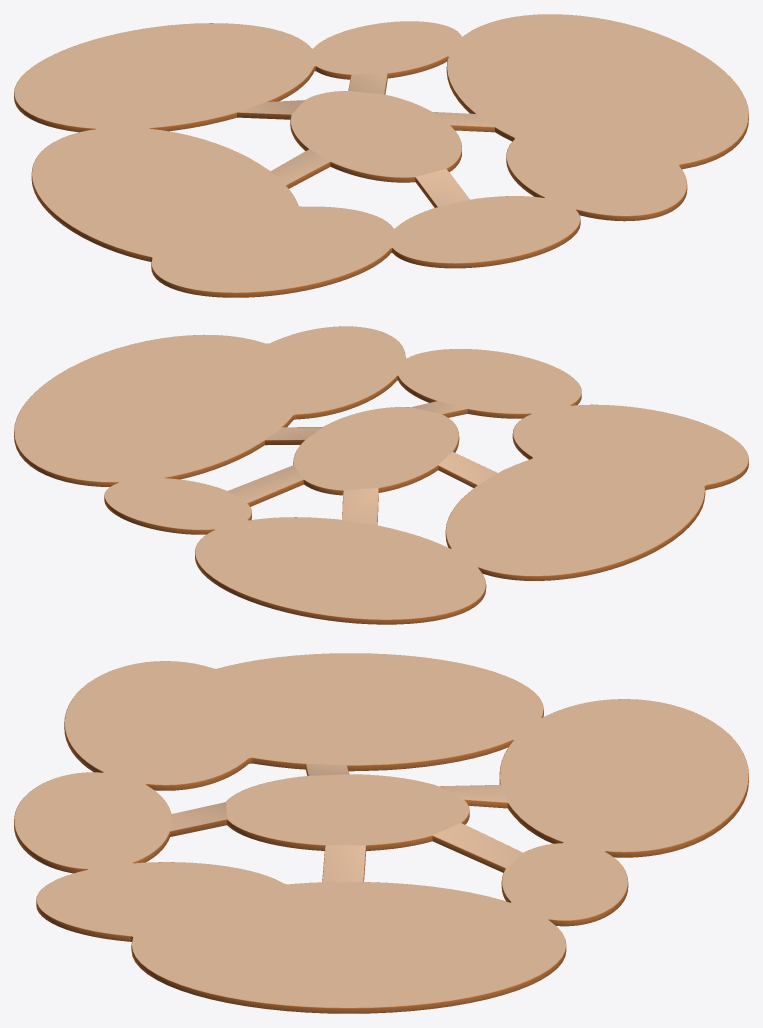
The model's file is floor.fbx.
3 renders of one model, top to bottom at view 1: azimuth 30°, elevation 25°; view 2: azimuth 150°, elevation 25°; view 3: azimuth 270°, elevation 25°, orthographic. The views are drawn at different scales.
Parts seen in each view (by area): view 1: FINALv2_floor.005; view 2: FINALv2_floor.005; view 3: FINALv2_floor.005.
Boxes of the visible parts, x1,y1,x2,y2 form: FINALv2_floor.005: (14, 14, 748, 297); FINALv2_floor.005: (14, 326, 748, 624); FINALv2_floor.005: (14, 653, 748, 1013).
Size of the model in its own units: 10337 by 258 by 9042.
